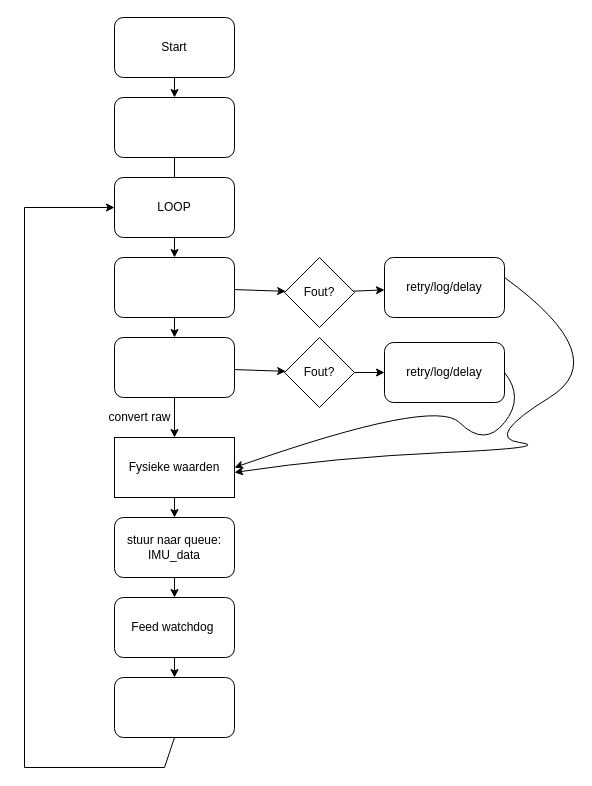
Some shapes in this 592 by 786 pixel diagram are drawn without their labels. The shapes that lost their labels are listed below. From the top down, each one's centre as x and y in pixels, then its label:
(174,127): Init MPU6050 via I2C
(174,287): Read gyro registers
(174,367): Read accel registers
(174,707): Delay
